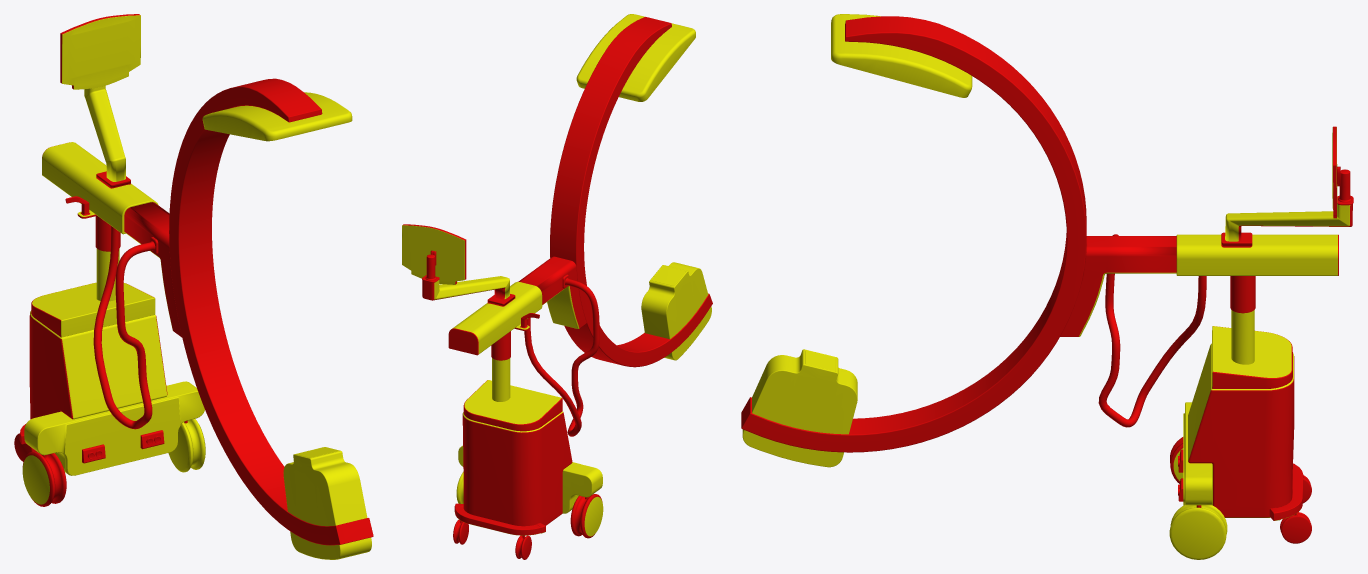
Rendered from Equipment_8.fbx.
3 views of the same model, side by side, from view 1: azimuth 30°, elevation 25°; view 2: azimuth 150°, elevation 25°; view 3: azimuth 270°, elevation 25° (orthographic). The views are drawn at different scales.
Visible parts, largest first — view 1: L8:pCube98; view 2: L8:pCube98; view 3: L8:pCube98.
Boxes of the visible parts, <box> form: L8:pCube98: <box>14,14,373,559</box>; L8:pCube98: <box>402,14,712,559</box>; L8:pCube98: <box>741,14,1353,559</box>.
Size of the model in its own units: 93.35 by 254 by 278.
